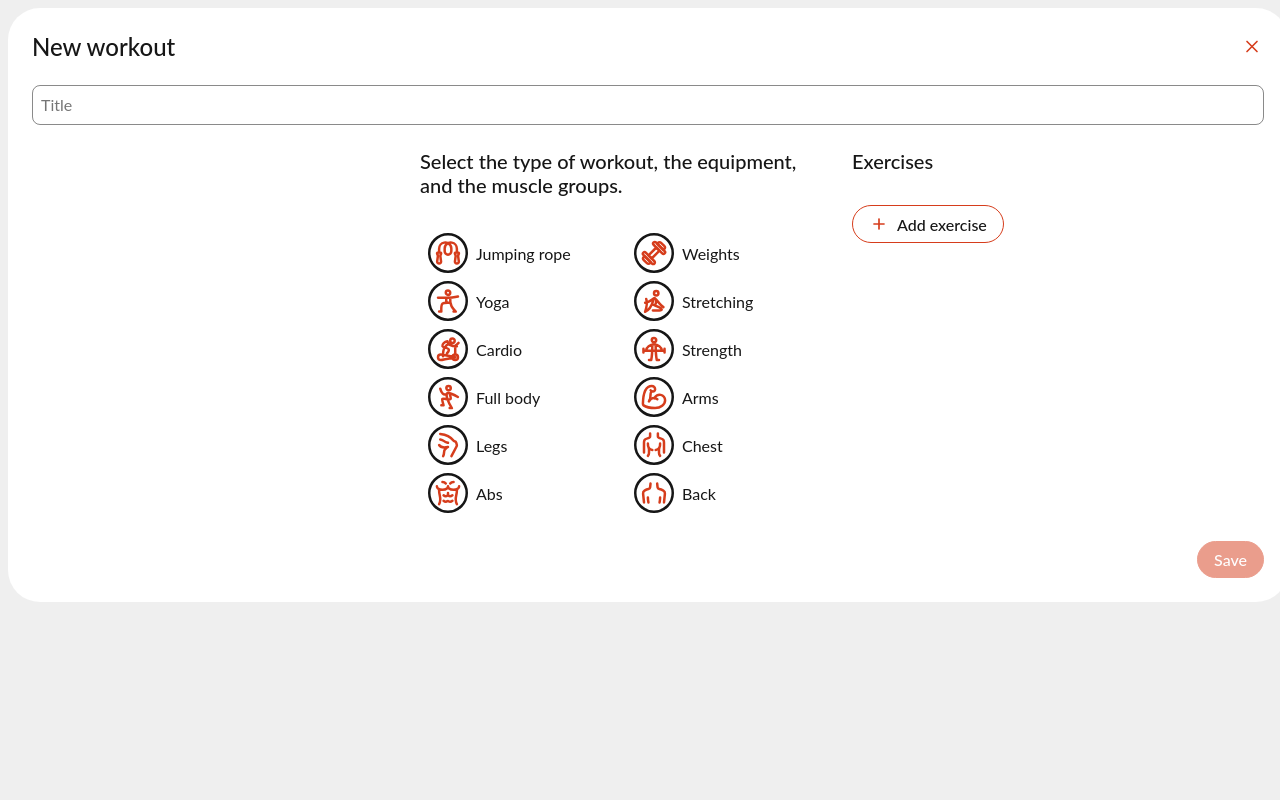
Scenario: NewWorkout component › removes a tag from the workout
Click the text "Jumping rope": [523, 253] box [476,244,571,262]
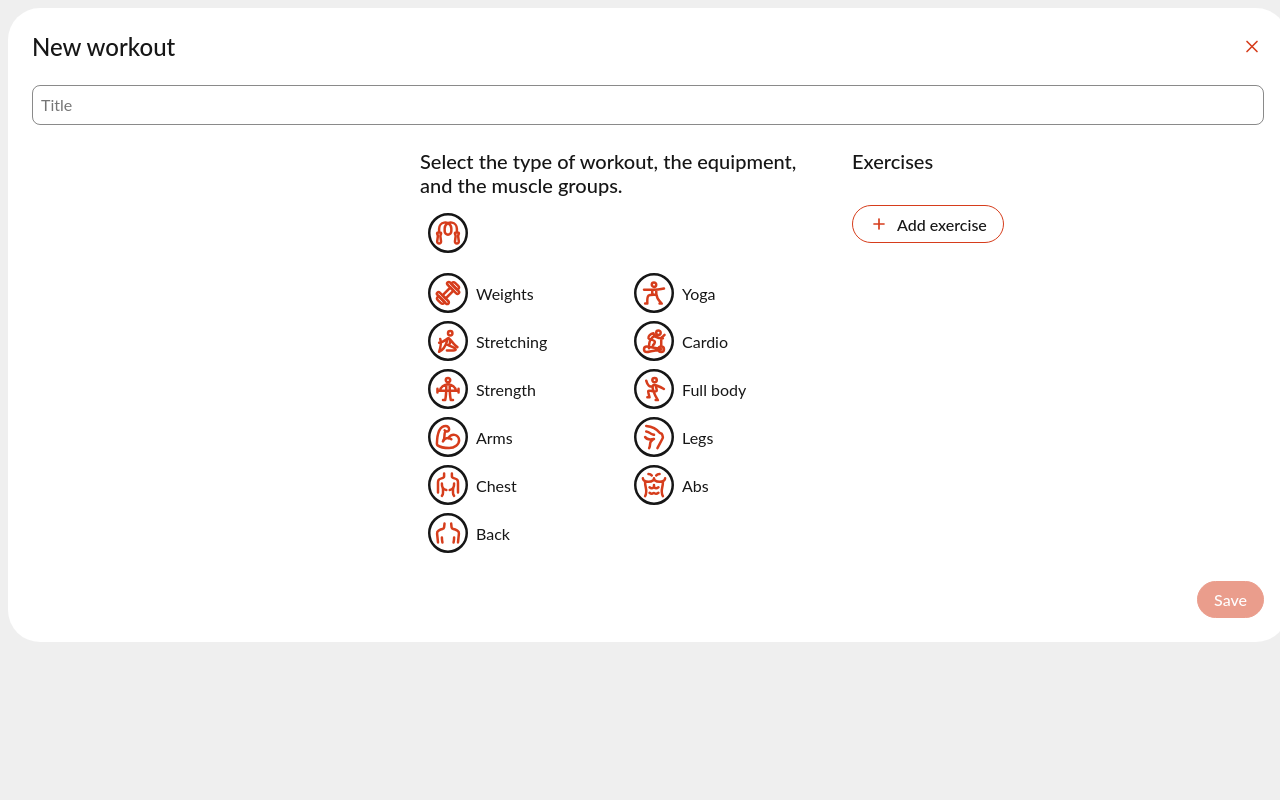
Now the text "Jumping rope" is gone
Click the picture with alt text "Jumping rope": [448, 233] box [428,213,468,253]
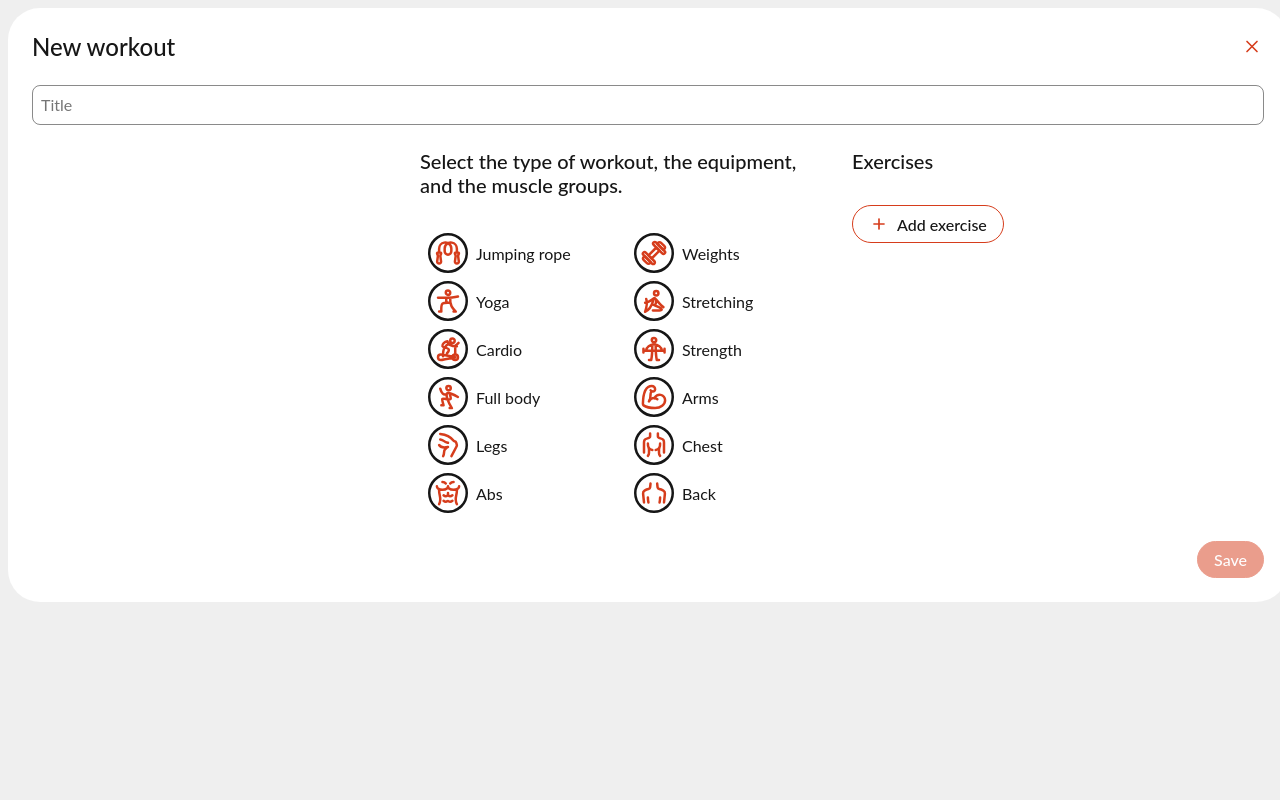
Now the text "Jumping rope" is shown, box [476,244,571,262]
